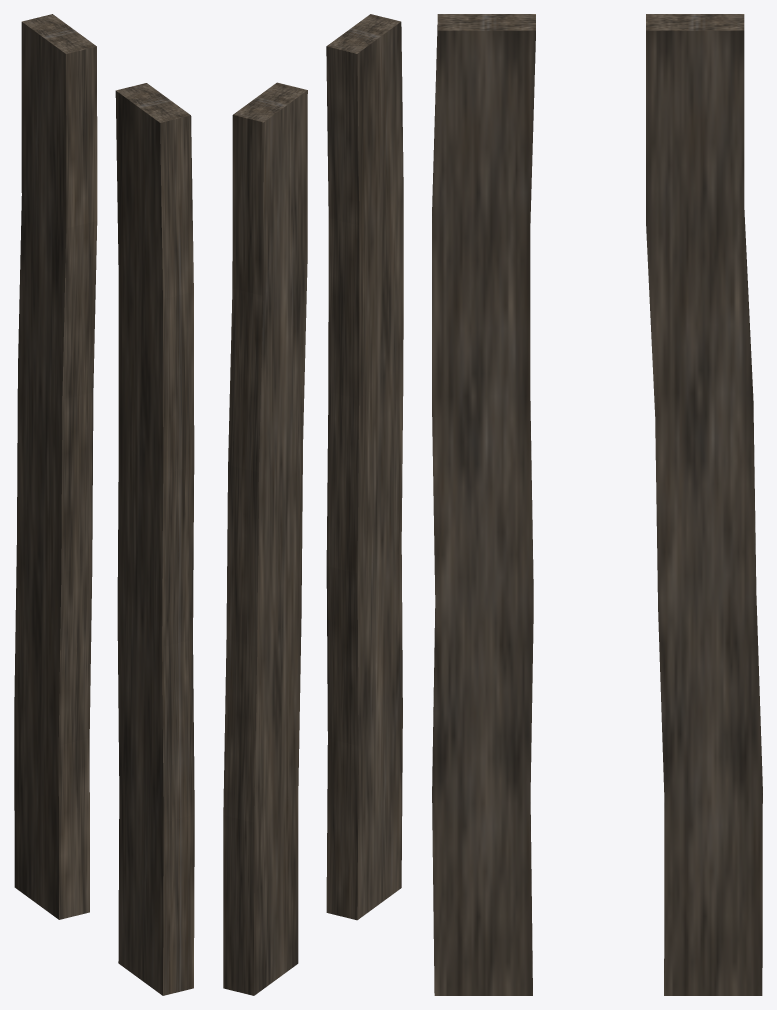
Rendered from Valla_tablones.obj.
3 views of the same model, side by side, from view 1: azimuth 30°, elevation 25°; view 2: azimuth 150°, elevation 25°; view 3: azimuth 270°, elevation 25° (orthographic). The views are drawn at different scales.
Parts seen in each view (by area): view 1: Valla.626; view 2: Valla.626; view 3: Valla.626.
Boxes of the visible parts, x1,y1,x2,y2 form: Valla.626: [14, 14, 194, 995]; Valla.626: [223, 14, 403, 995]; Valla.626: [432, 14, 762, 995].
Bounding box in the file's own units: 0.0675 × 1.74 × 0.5412.
Materials: 1 (1 with a texture image).
